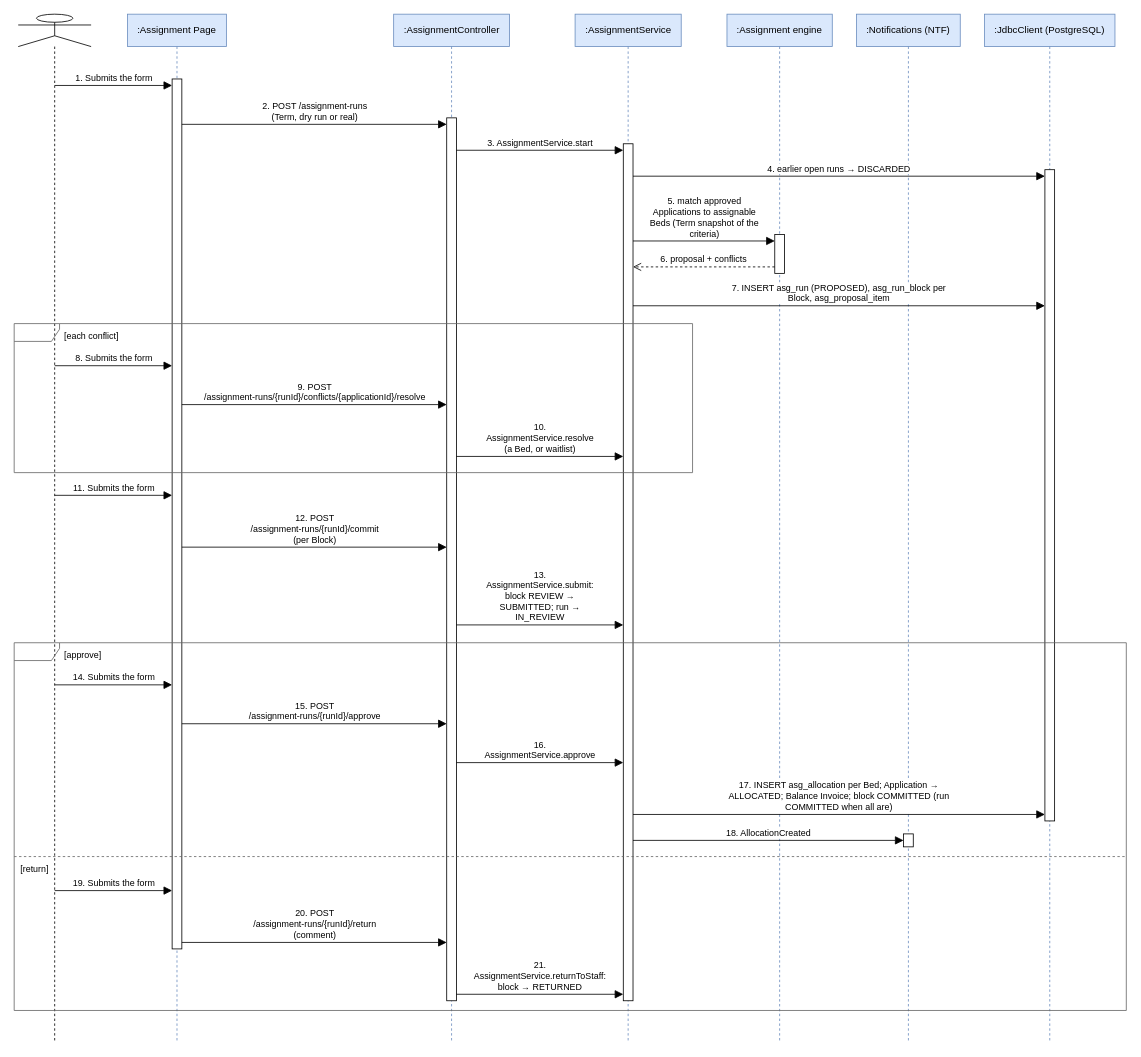
This 1141x1057 diagram has some shape labels left out. The shapes that lost their labels are listed below. From the top down, each one's box as (x1, y1, x2, y2) in pixels, then its label:
(13, 323, 693, 473): loop
(17, 13, 91, 1043): Manager
(13, 642, 1126, 1010): alt
